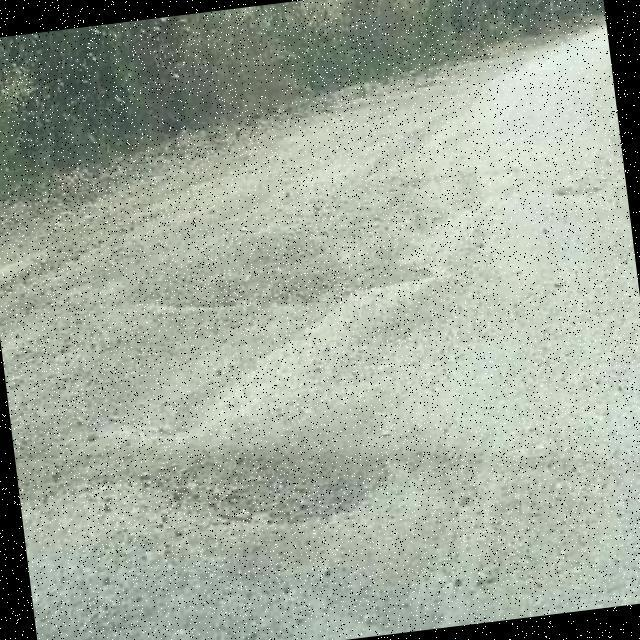Pothole: (147, 233, 433, 315), (151, 453, 381, 525)
